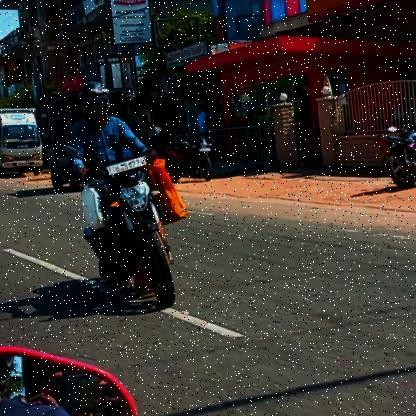motorcycle: (68, 148, 202, 331)
